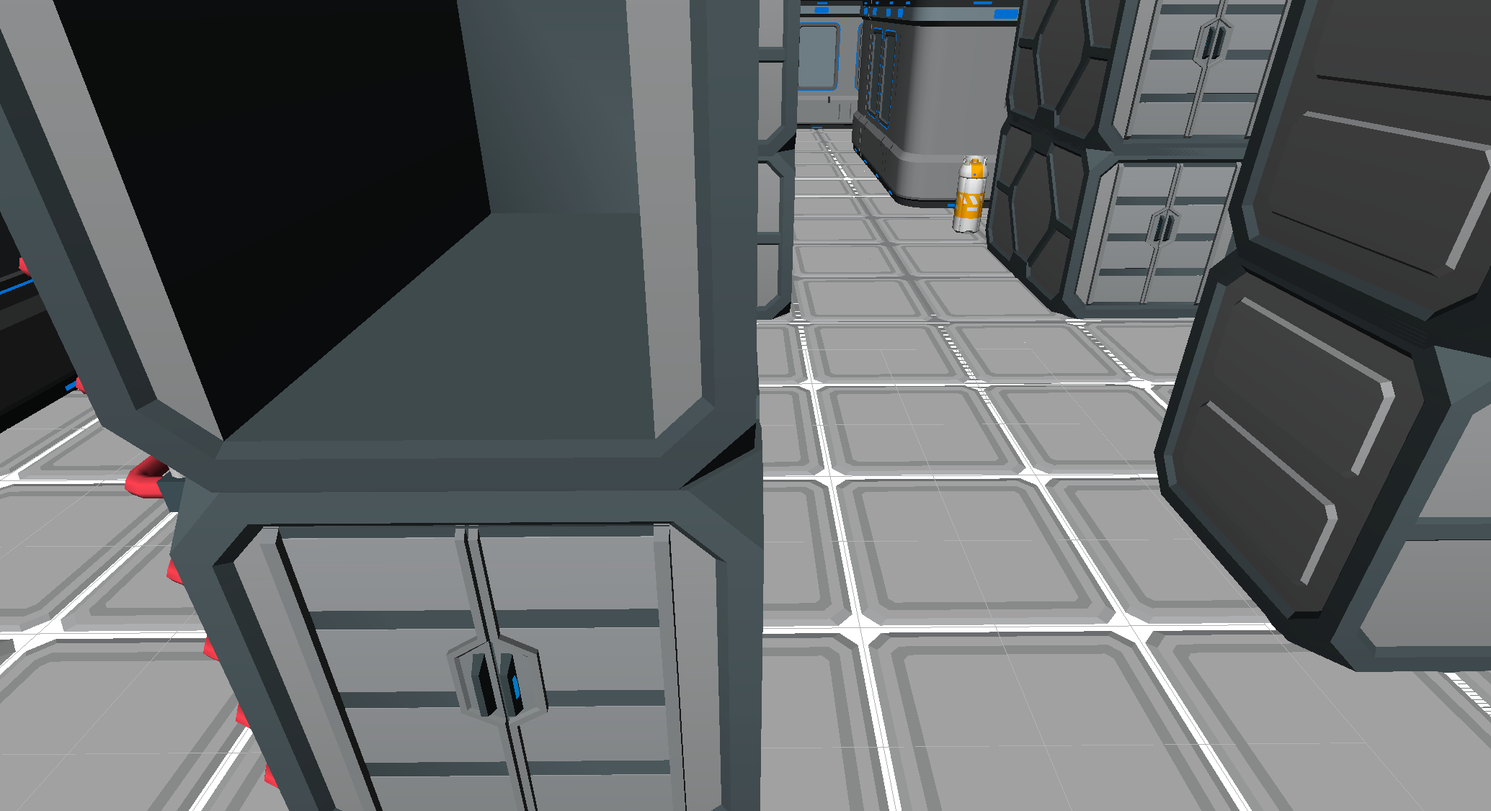yellow_barrel: (953, 155, 987, 233)
